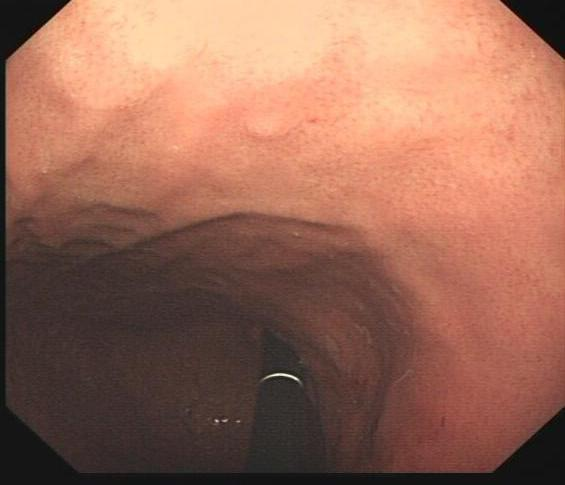Polyp: (216, 103, 311, 154)
